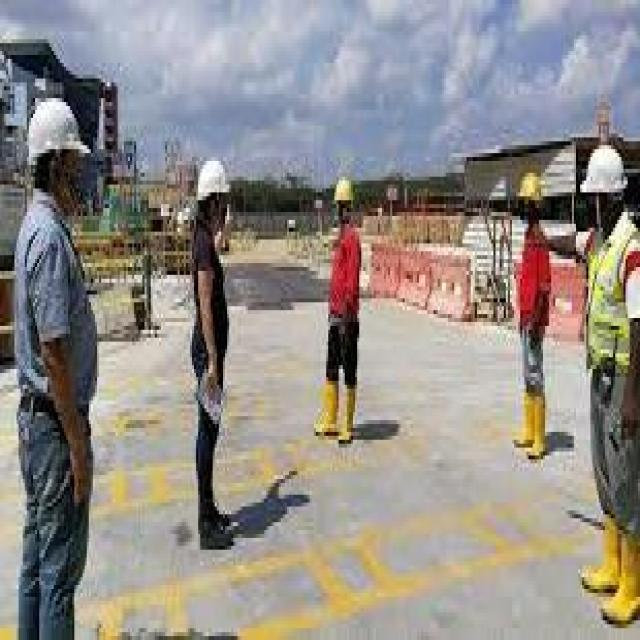Reflective-Jacket: (582, 216, 640, 389)
Safety-Helmet: (23, 86, 93, 169), (188, 145, 235, 216), (578, 137, 630, 200), (514, 161, 551, 212), (328, 165, 362, 216)
